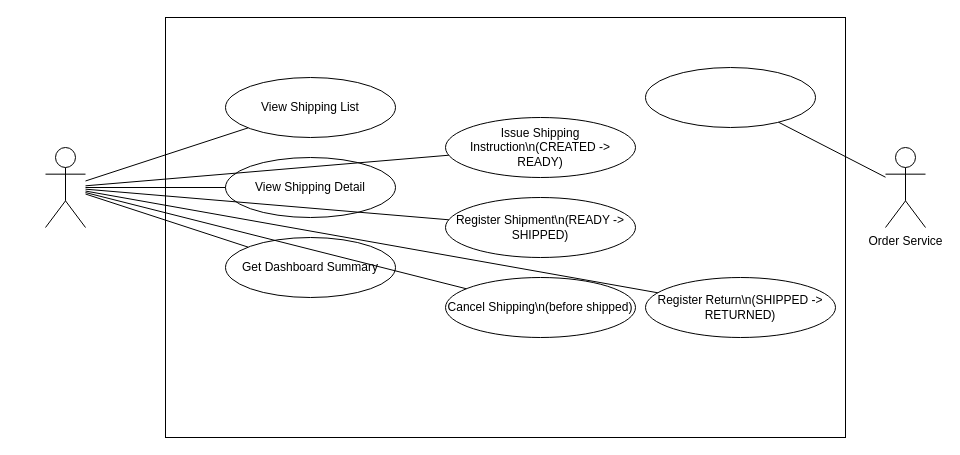
Some shapes in this 960 by 455 pixel diagram are drawn without their labels. Each missing label, with the centre of its shape:
Create Shipping\n(from Order event): the point at 730,97
Shipping Operator: the point at 65,187
